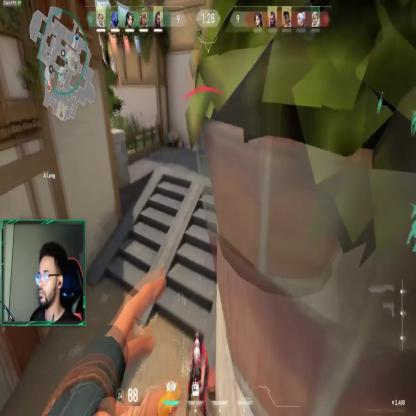enemy: (188, 346, 210, 415)
enemy_head: (193, 348, 200, 364)
